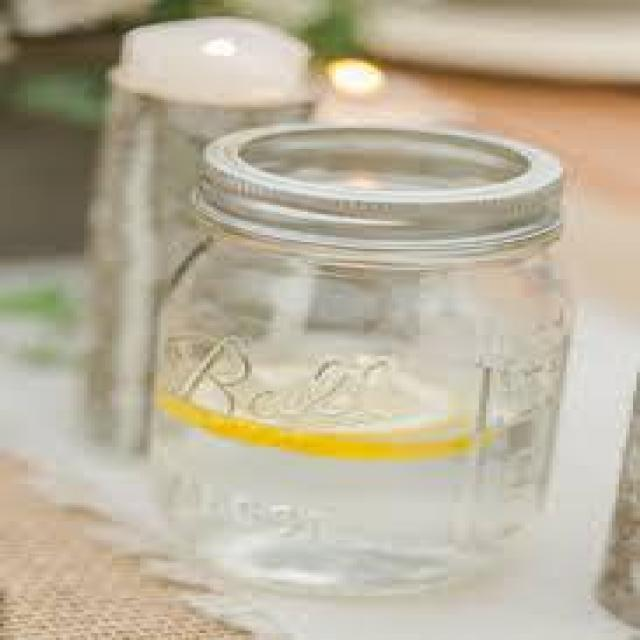glass: (138, 116, 572, 603)
